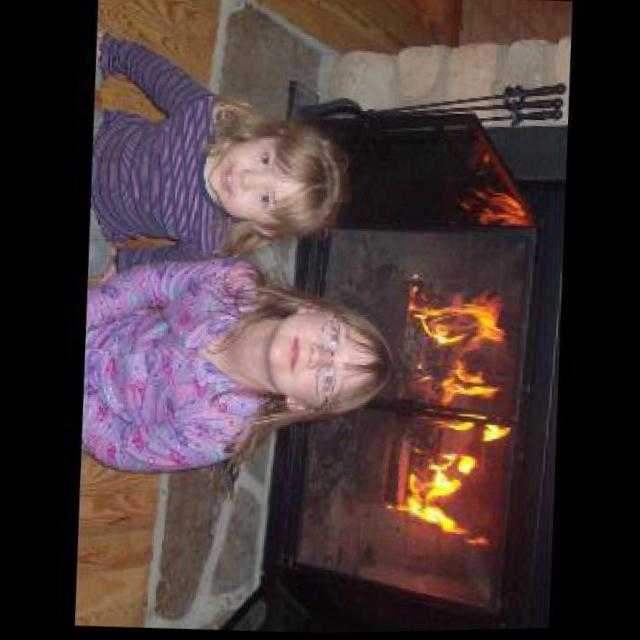Fire: (383, 271, 525, 553), (461, 164, 540, 233)
